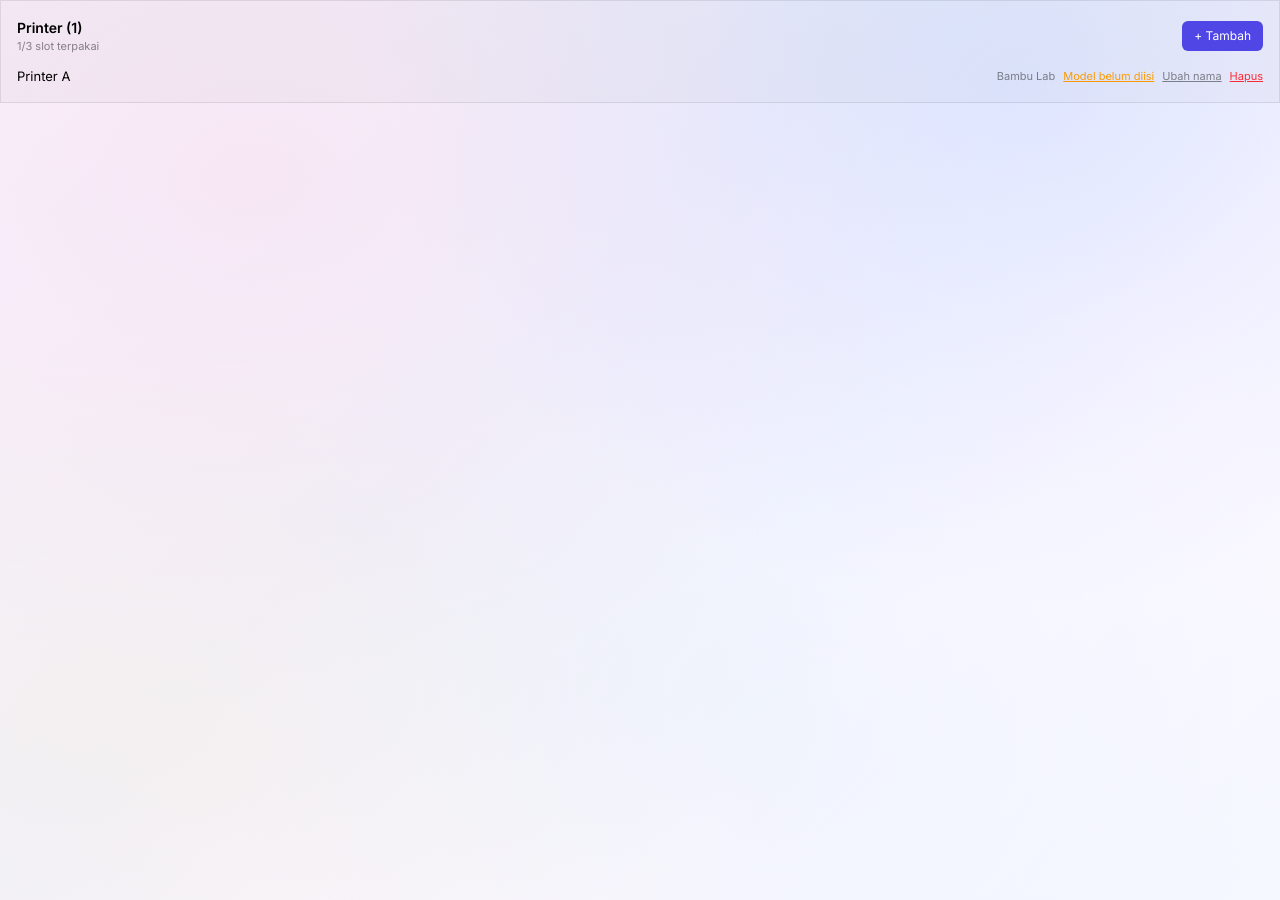
Test: DeviceList › edit inline model: klik badge -> isi -> Enter -> PATCH { model }
The width and height of the screenshot is (1280, 900).
Step 1. Click the button with aria-label "isi model printer a" → click(1109, 76), box [1063, 68, 1154, 84]
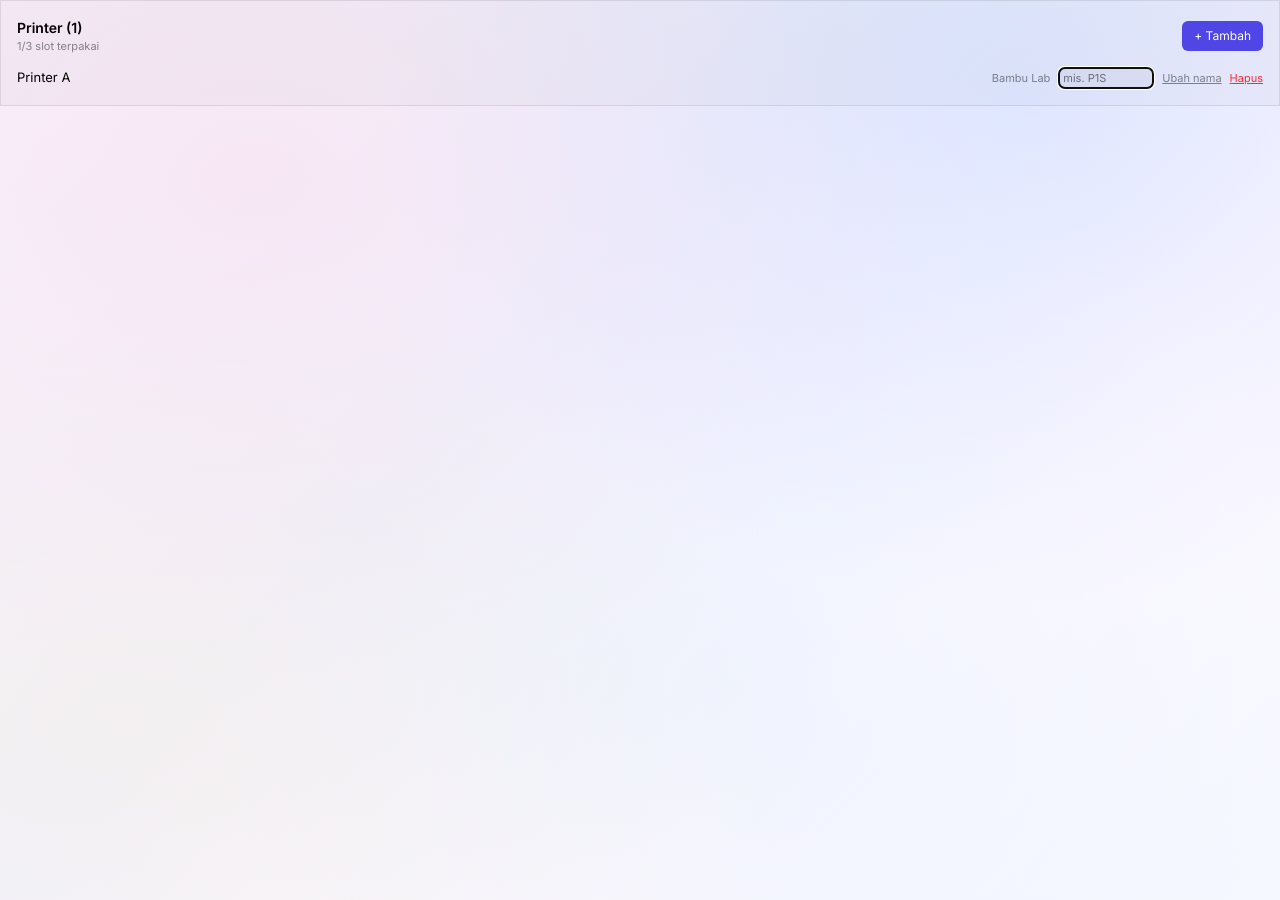
Step 2. Type "X1C" into the field named "Model printer Printer A" → (1106, 78), box [1058, 66, 1154, 89]
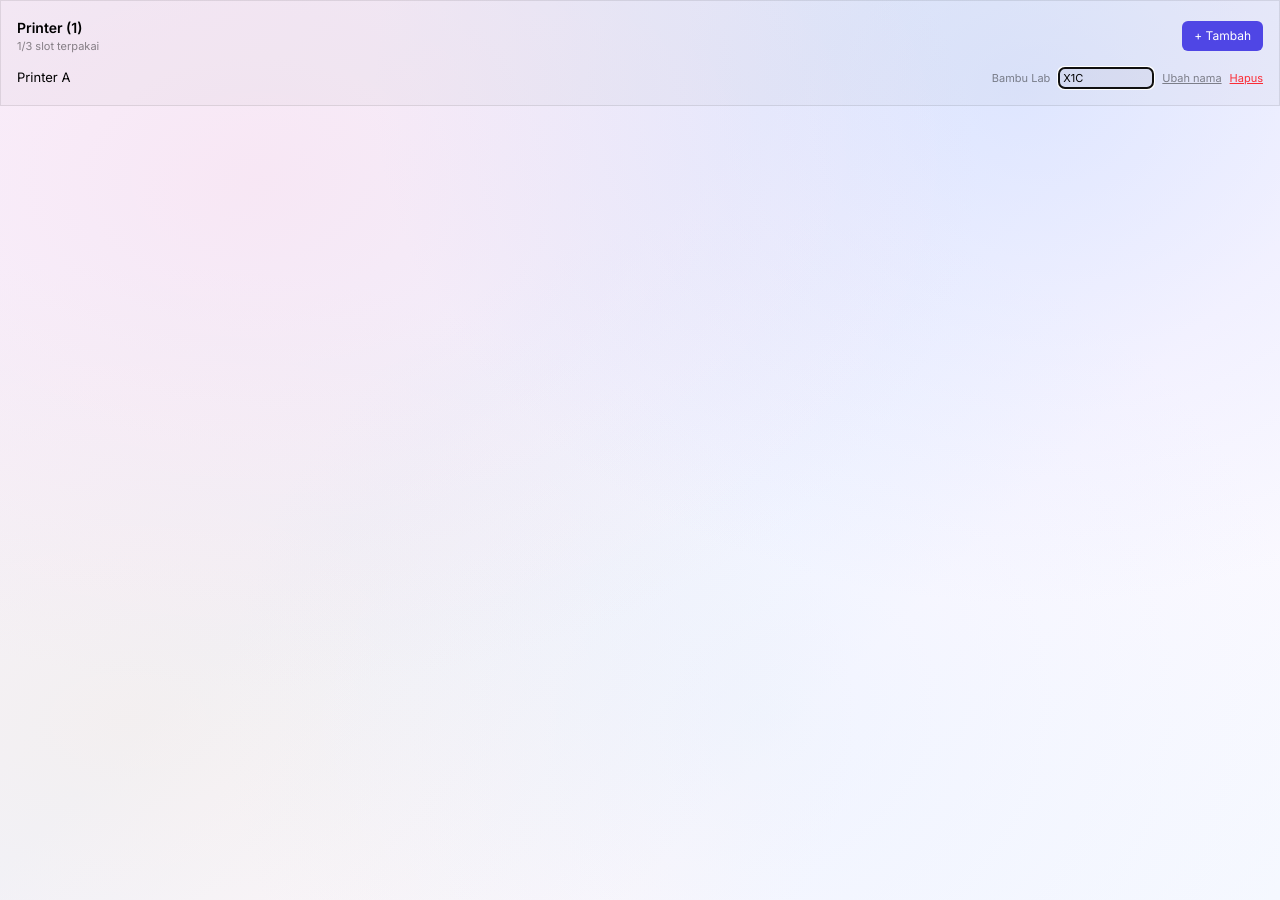
Step 3. Press Enter in the field named "Model printer Printer A", box [1058, 66, 1154, 89]
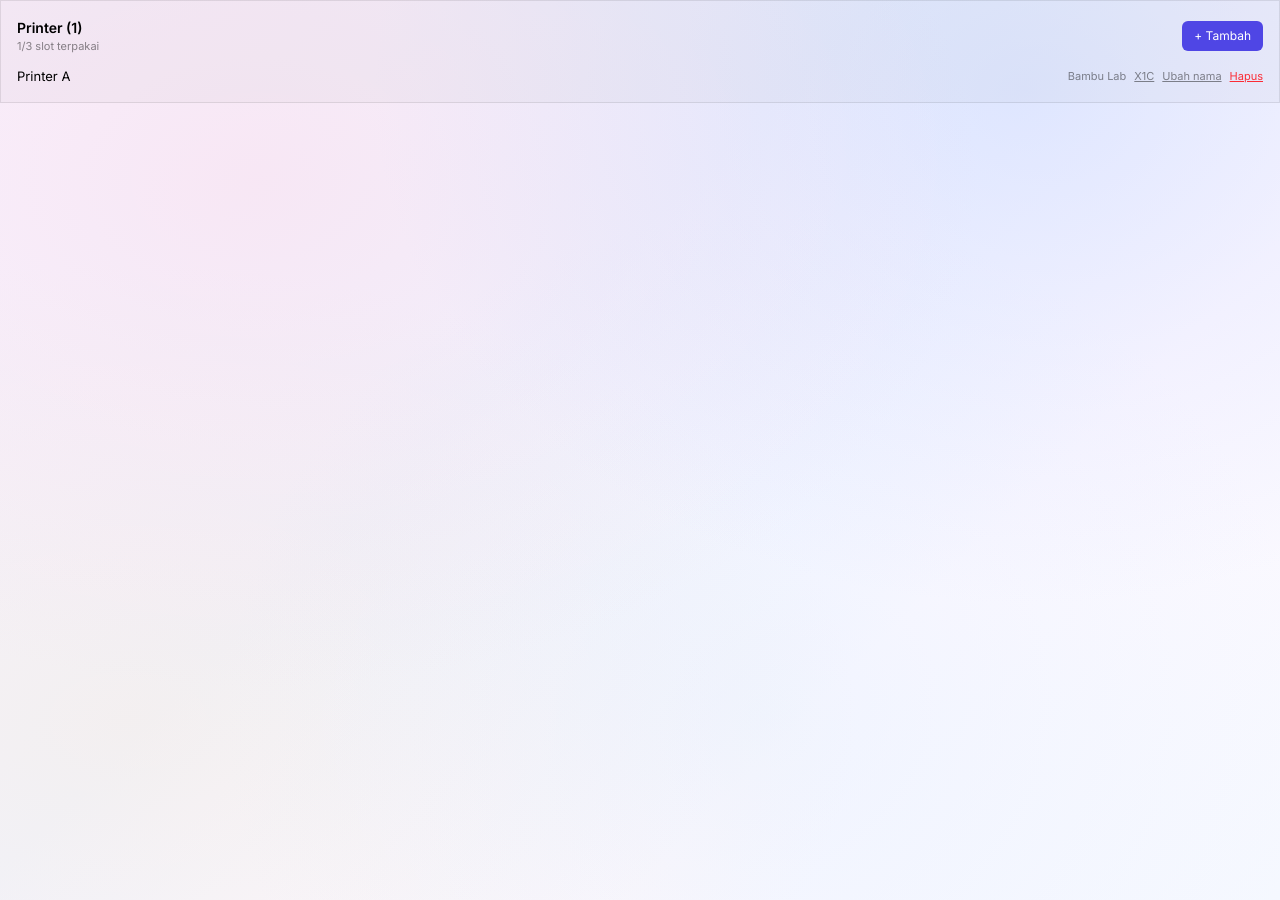
Check: the button "X1C" is shown, box [1134, 68, 1154, 84]
